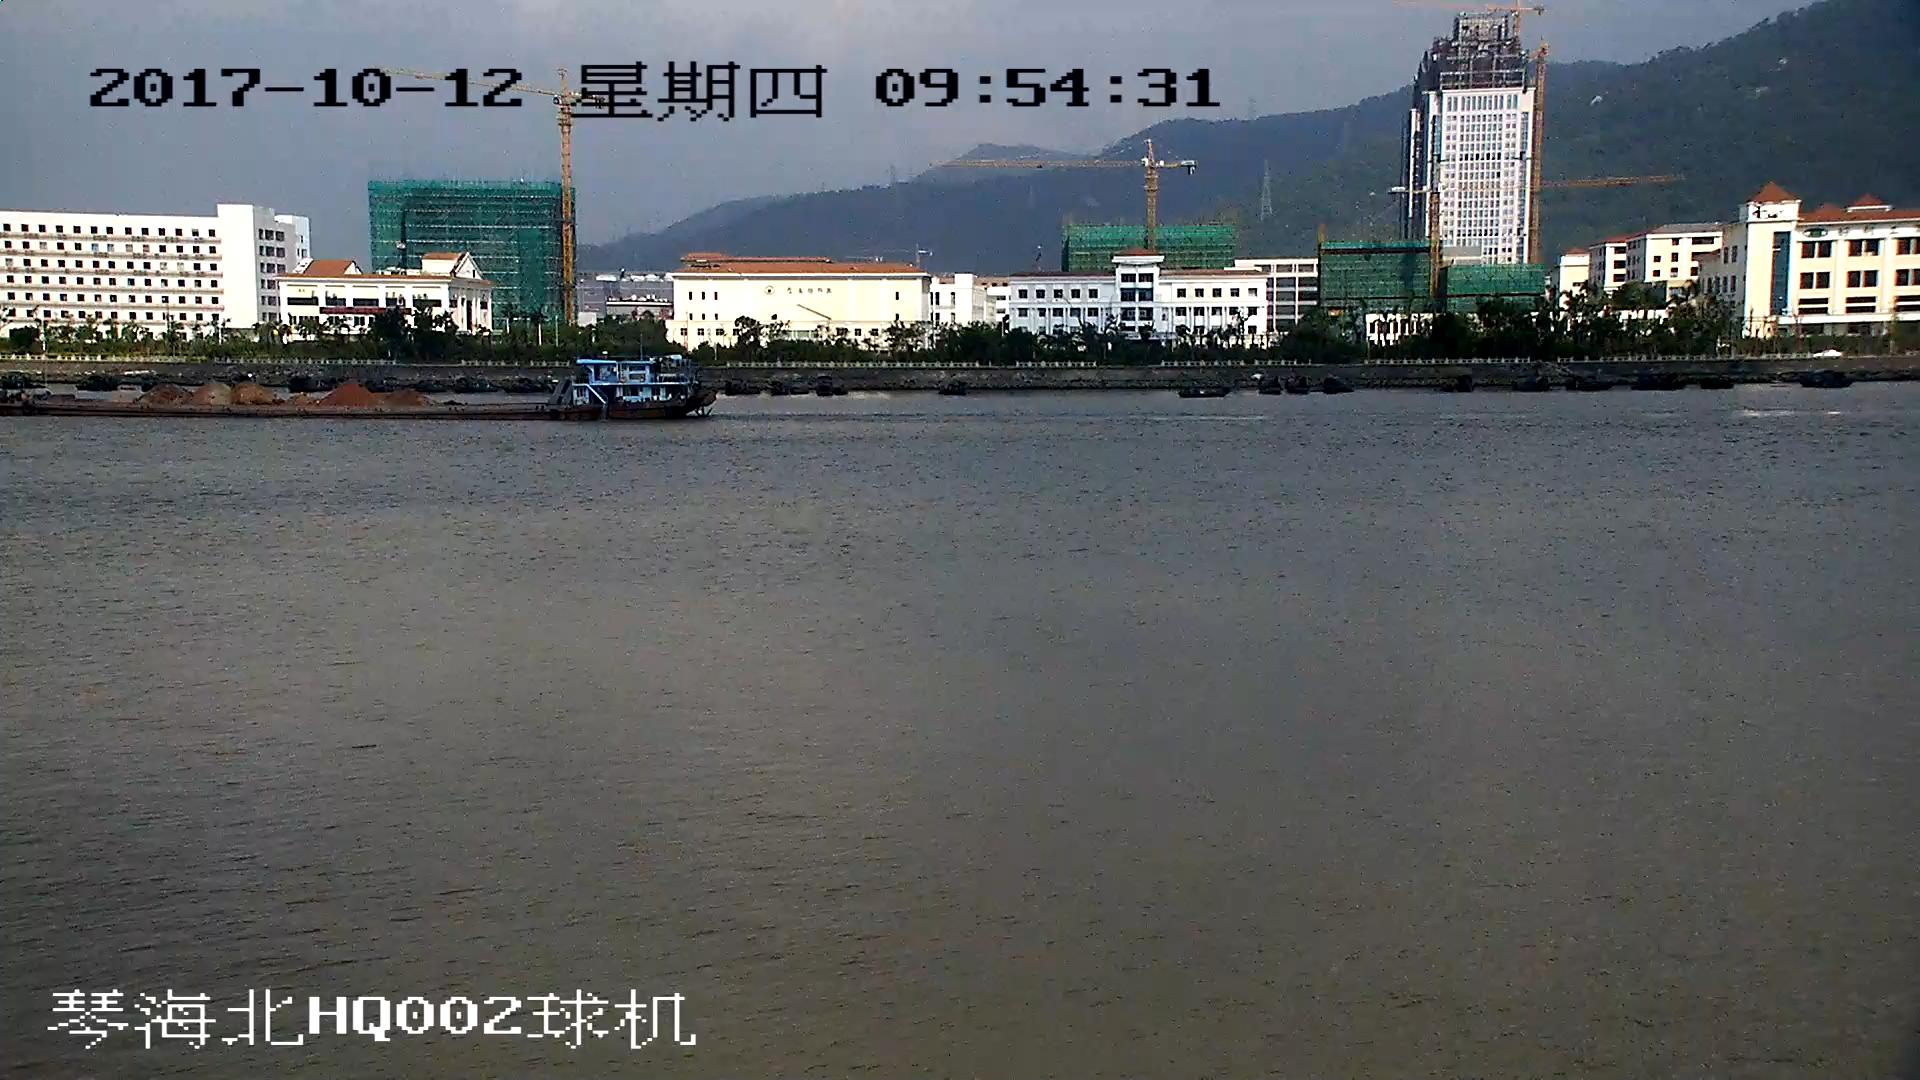ore carrier: (1, 360, 718, 422)
